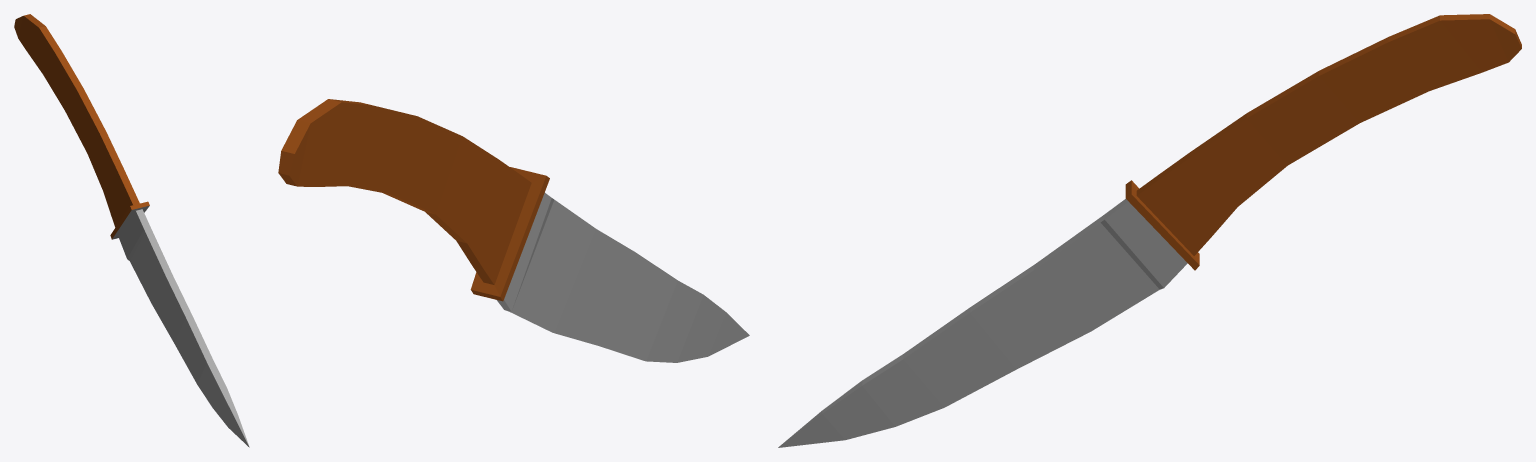
Rendered from ThrowingDagger.fbx.
3 views of the same model, side by side, from view 1: azimuth 30°, elevation 25°; view 2: azimuth 150°, elevation 25°; view 3: azimuth 270°, elevation 25° (orthographic). The views are drawn at different scales.
Visible parts, largest first — view 1: ThrowingDagger; view 2: ThrowingDagger; view 3: ThrowingDagger.
Part boxes in pixels (left/top/right/bottom): ThrowingDagger: left=14, top=14, right=249, bottom=447; ThrowingDagger: left=278, top=99, right=749, bottom=362; ThrowingDagger: left=778, top=14, right=1521, bottom=447.
Size of the model in its own units: 5.51 by 77.9 by 122.
